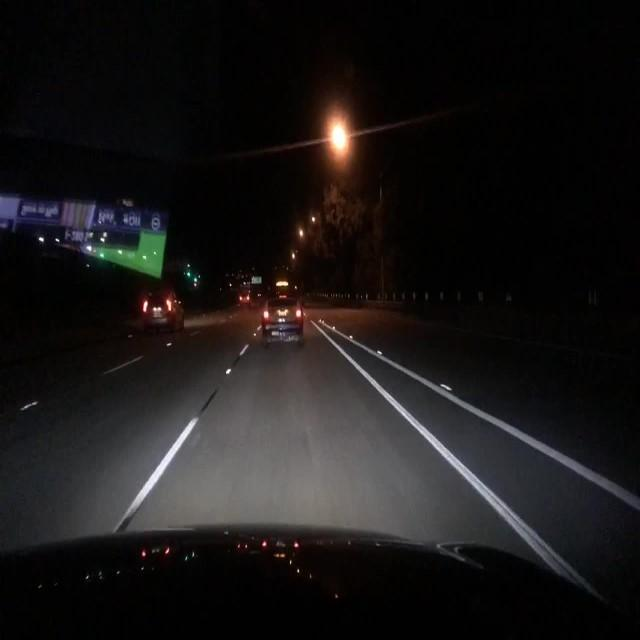normal: (255, 273, 324, 358), (115, 281, 192, 342)
